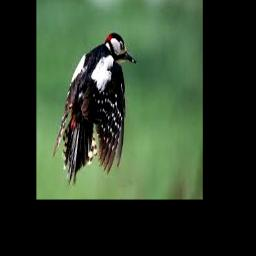Woodpecker: (54, 32, 137, 187)
